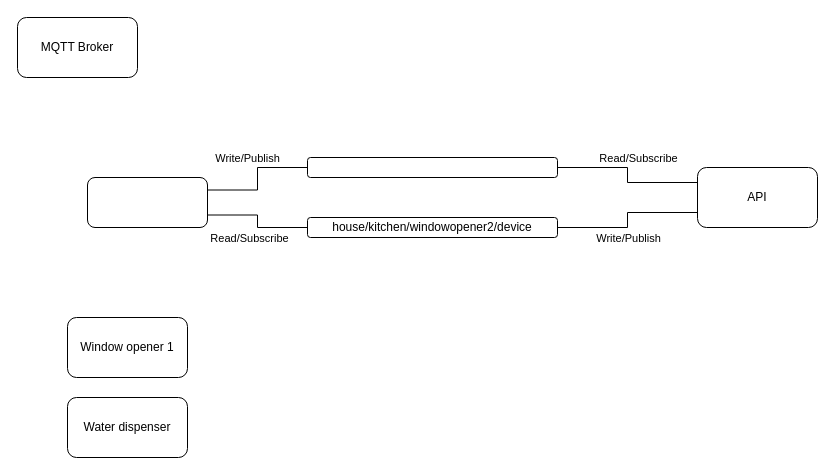
Some shapes in this 835 by 475 pixel diagram are drawn without their labels. Here are the shapes that lost their labels. From the top down, the box of each, then its label:
(306, 156, 558, 178): house/kitchen/windowopener2/api
(86, 176, 208, 228): Window opener 2
